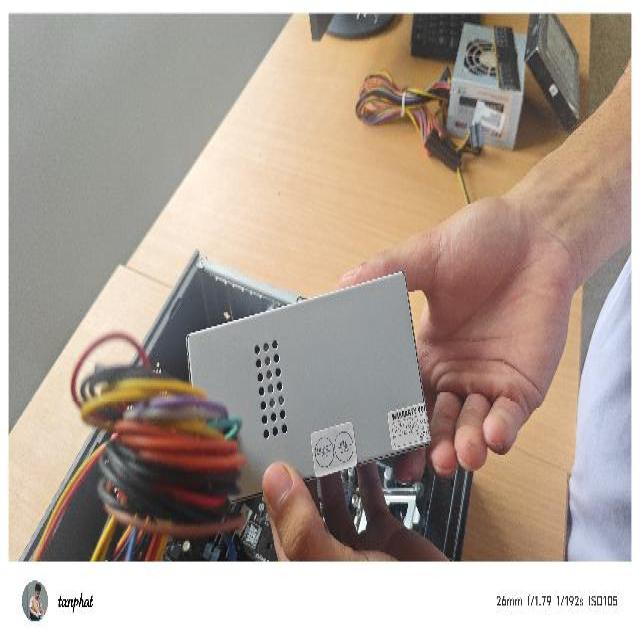PSU: (180, 268, 436, 504)
